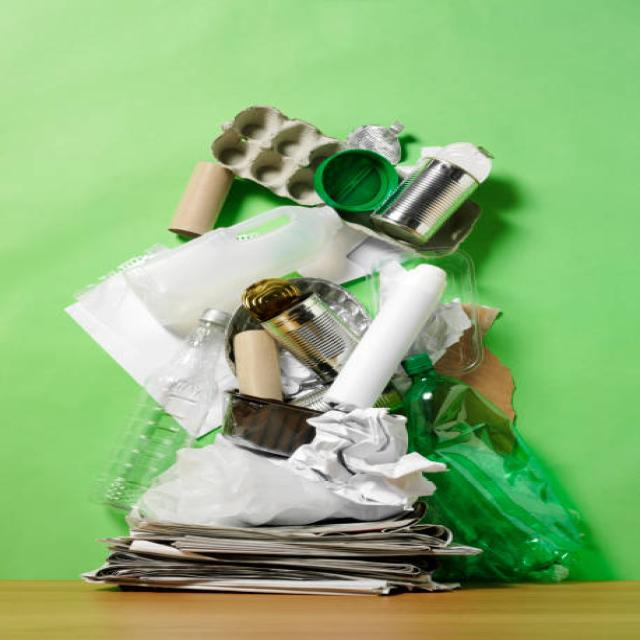cardboard: (238, 328, 278, 394)
metal: (391, 159, 478, 240), (280, 276, 340, 366), (172, 159, 230, 233)
paper: (127, 520, 387, 593)
plastic: (406, 360, 592, 580), (179, 446, 387, 514), (85, 252, 263, 279)
